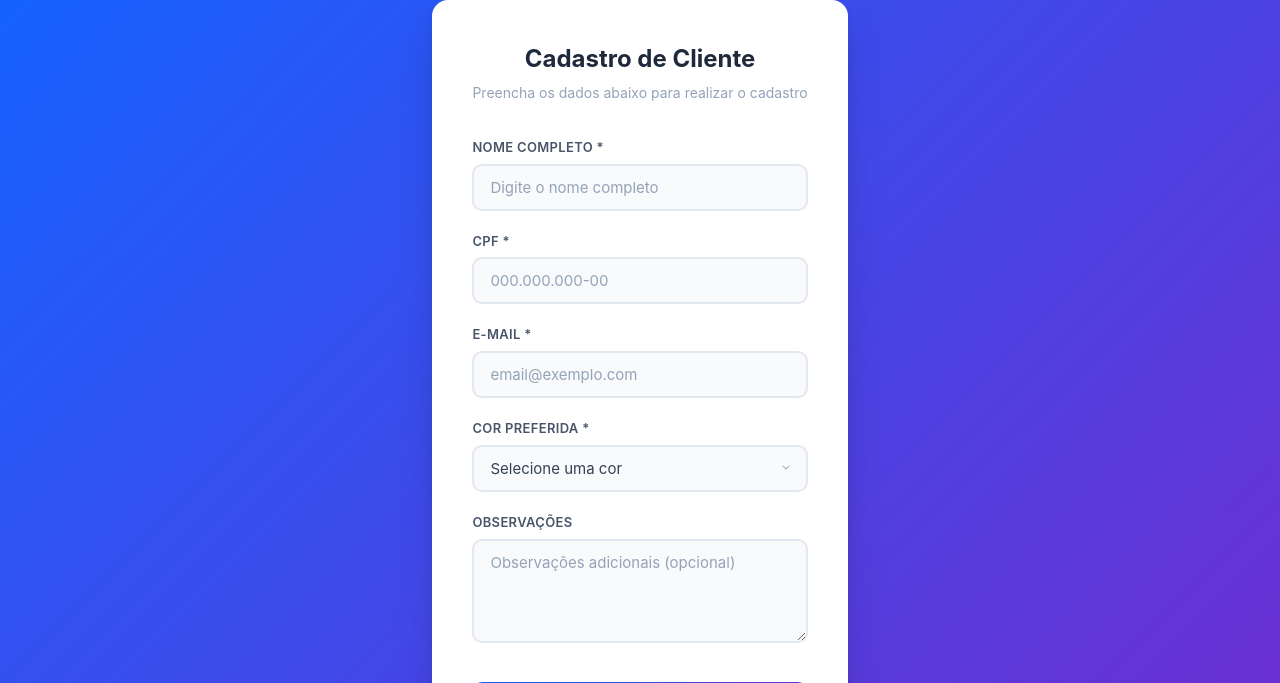
Test case: ClientForm › formats CPF as user types
In the field labelled "CPF *": (640, 281) [472,257,808,304], type "52998224725"
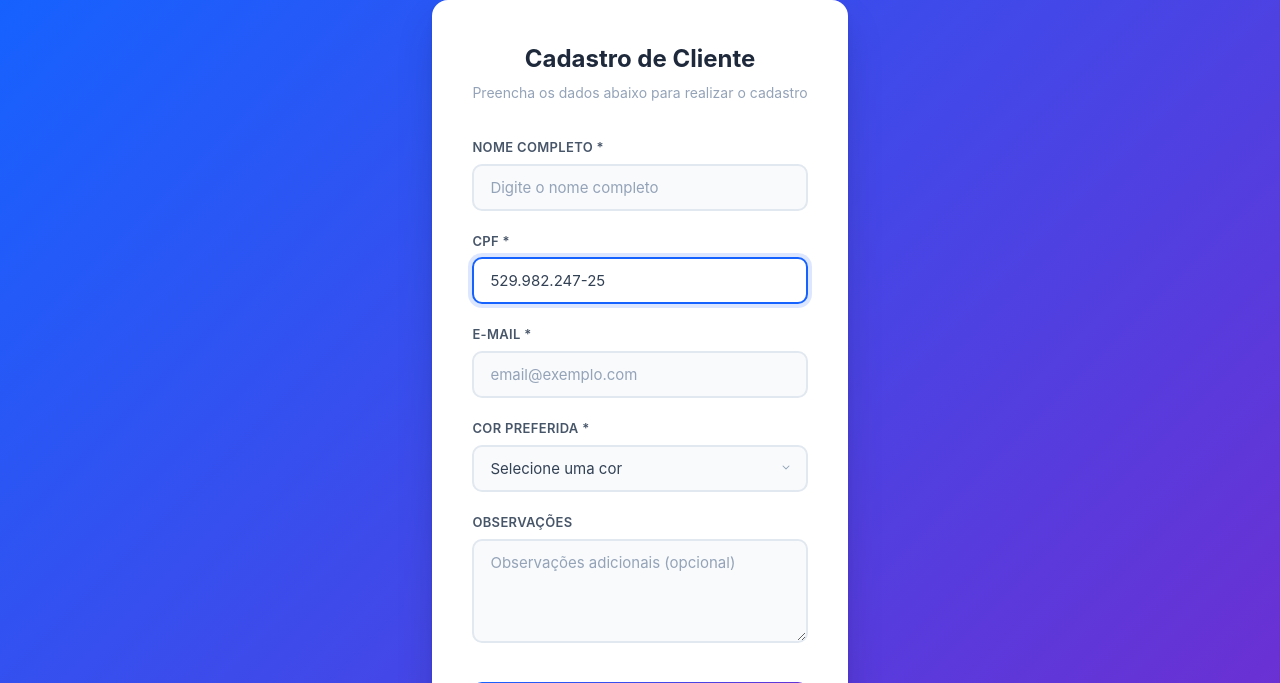
Check: the field labelled "CPF *" holds "529.982.247-25", box [472,257,808,304]
